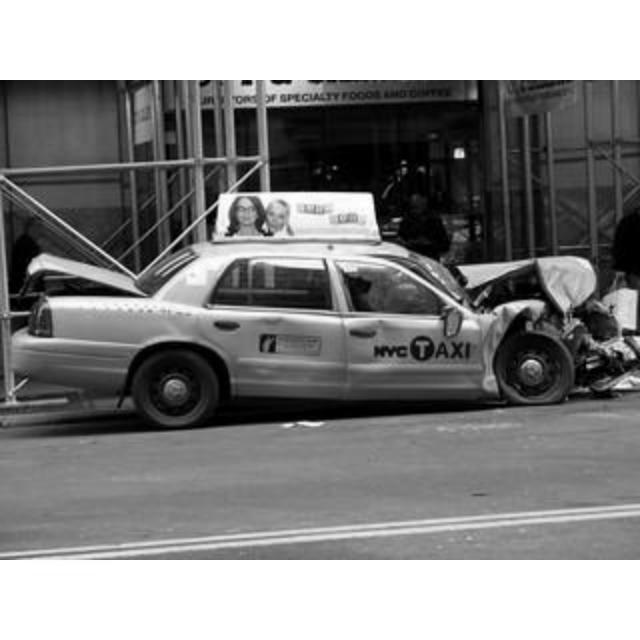bonnet-dent: (456, 262, 588, 310)
doorouter-dent: (342, 322, 460, 406), (212, 318, 332, 400)
fender-dent: (484, 308, 520, 388)
